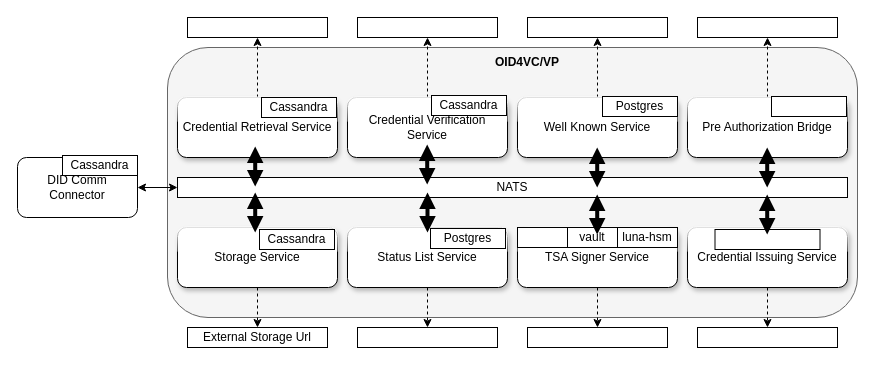
Some shapes in this 875 by 365 pixel diagram are drawn without their labels. The centre of each missing label's shape, as x and y in pixels:
Credential Endpoints: pixel 767 337
DID Config/DID Doc: pixel 597 337
Issuing Module: pixel 767 239
local: pixel 542 237
Open ID Configuration: pixel 767 27
Redis: pixel 808 106
Retrieval Endpoint: pixel 257 27
Status List Url: pixel 427 337
VP verify Endpoint: pixel 427 27
Well Known Endpoint: pixel 597 27
